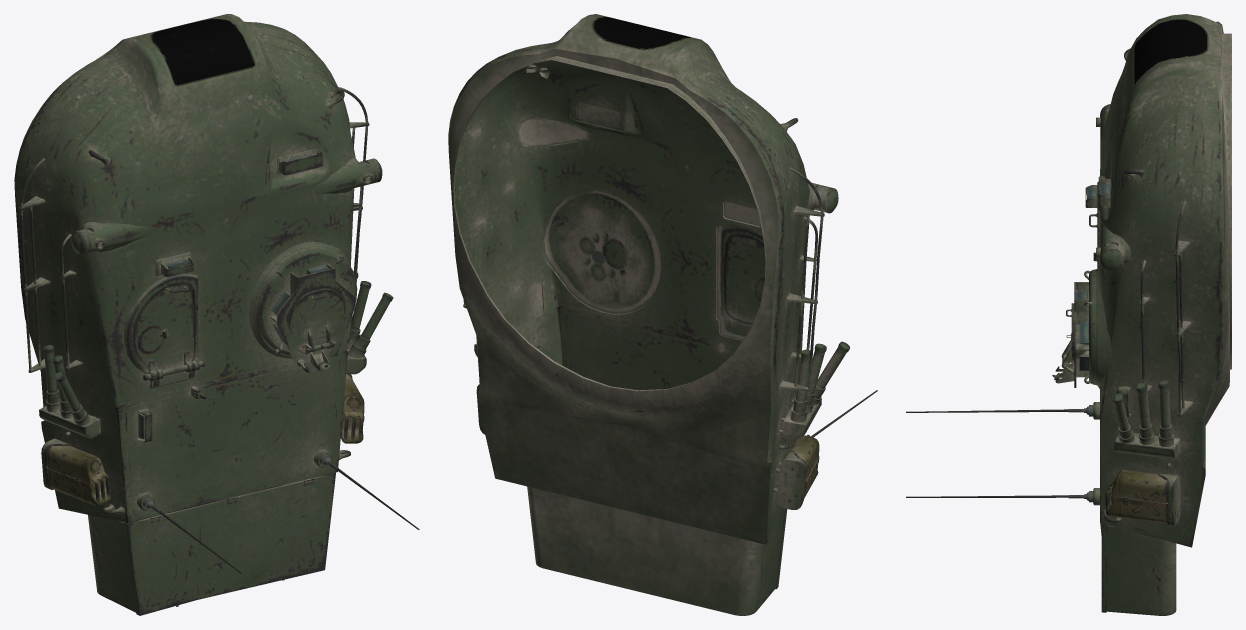
File: Turret_02.glb
3 renders of one model, left to right at view 1: azimuth 30°, elevation 25°; view 2: azimuth 150°, elevation 25°; view 3: azimuth 270°, elevation 25°, orthographic. The views are drawn at different scales.
Parts seen in each view (by area): view 1: set_0_group_0; view 2: set_0_group_0; view 3: set_0_group_0.
Boxes of the visible parts, x1=… form: set_0_group_0: x1=14, y1=14, x2=419, y2=615; set_0_group_0: x1=448, y1=14, x2=877, y2=615; set_0_group_0: x1=906, y1=14, x2=1231, y2=615.
Size of the model in its own units: 2.97 by 4.34 by 2.41.
1 material, 1 textured.
